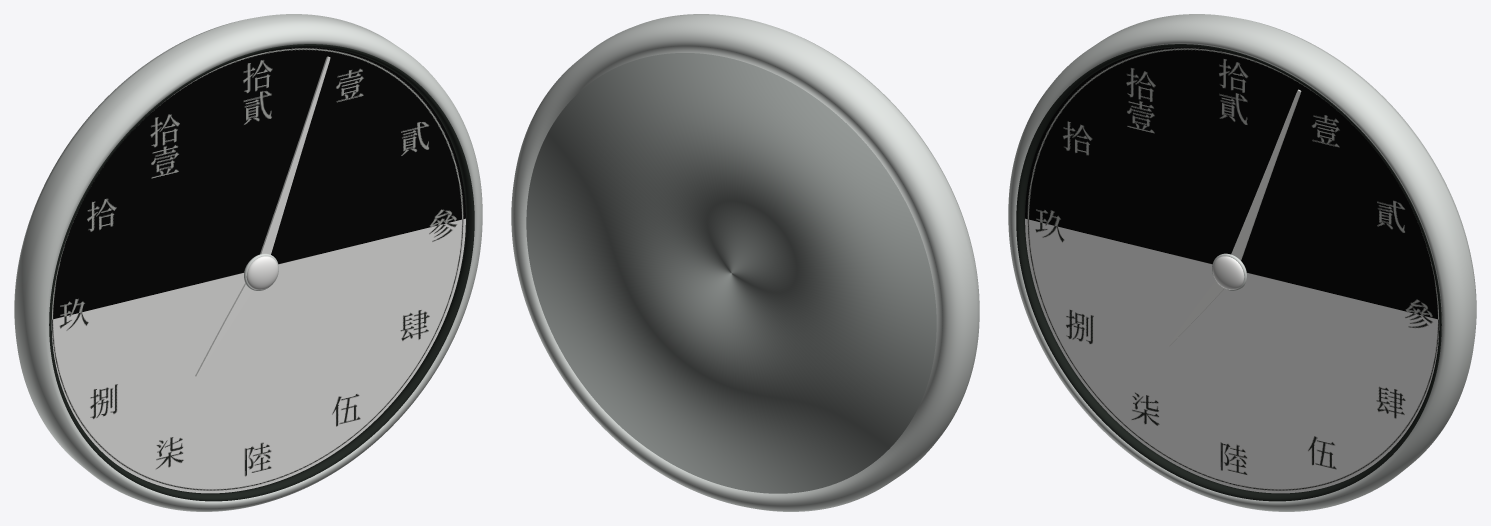
File: monogatari-clock.glb
3 views of the same model, side by side, from view 1: azimuth 30°, elevation 25°; view 2: azimuth 150°, elevation 25°; view 3: azimuth 330°, elevation 25° (orthographic).
Visible parts, largest first — view 1: dial | printed face, case | rounded silver shell, bezel | recessed black ring, minute_hand | long white blade, hub | rounded white cap, hour_hand | tapered white blade; view 2: back | simple closed panel, case | rounded silver shell; view 3: dial | printed face, case | rounded silver shell, bezel | recessed black ring, minute_hand | long white blade, hub | rounded white cap, hour_hand | tapered white blade.
Boxes of the visible parts, box(x1,y1,x2,y2) form: dial | printed face: box(51, 47, 465, 493); case | rounded silver shell: box(14, 14, 482, 511); bezel | recessed black ring: box(49, 44, 474, 501); minute_hand | long white blade: box(260, 56, 330, 254); hub | rounded white cap: box(246, 256, 278, 289); hour_hand | tapered white blade: box(195, 283, 252, 376); back | simple closed panel: box(526, 53, 936, 493); case | rounded silver shell: box(511, 14, 979, 511); dial | printed face: box(1025, 47, 1439, 493); case | rounded silver shell: box(1008, 14, 1476, 511); bezel | recessed black ring: box(1016, 44, 1441, 501); minute_hand | long white blade: box(1231, 89, 1301, 260); hub | rounded white cap: box(1212, 256, 1244, 289); hour_hand | tapered white blade: box(1168, 281, 1223, 346).
Size of the model in its own units: 0.3 by 0.3 by 0.0356.
Materials: 7 (1 with a texture image).
